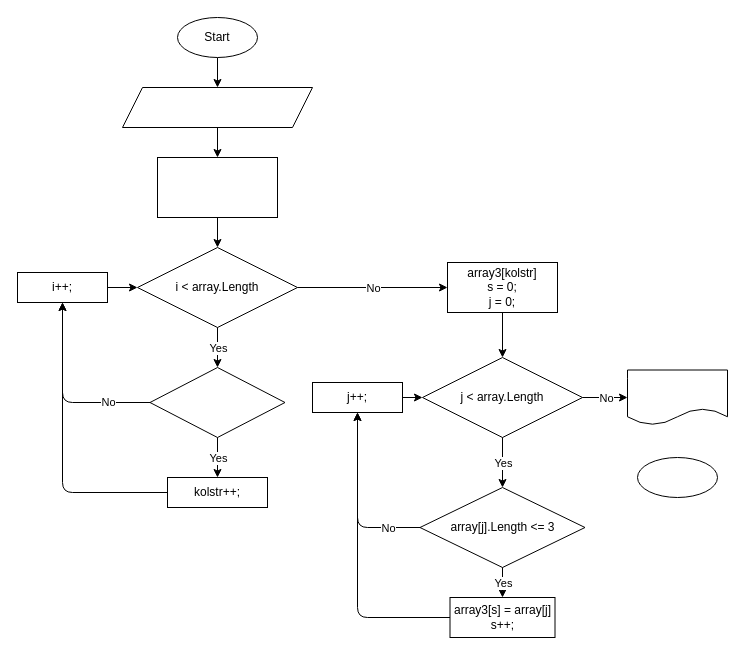
The diagram is 745 pixels wide and 655 high, and some of its shapes have lost their labels. Here are the shapes that lost their labels. From the top down, the centre of each, then its label:
point (217, 107): array{hello","2","world",":-)}
point (217, 187): kolstr = 0; i = 0;
point (217, 402): array[i].Length <= 3
point (677, 397): array3
point (677, 477): End
